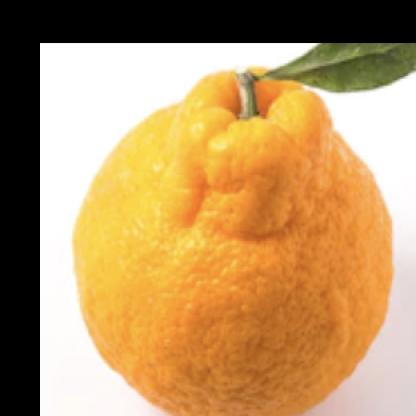fresh: (70, 69, 392, 416)
